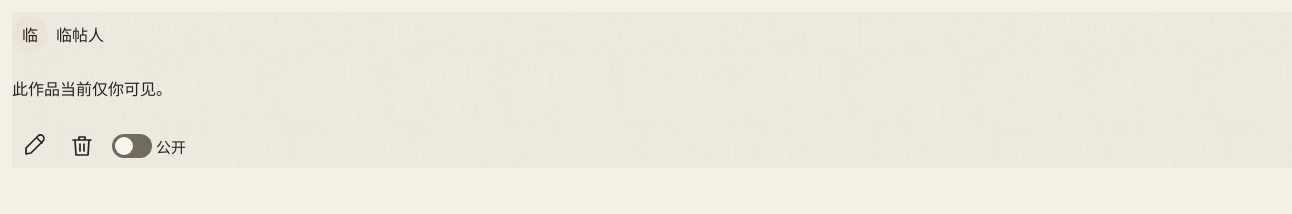
Work detail follows whether others can see the author's work › reads the work once more after a failed read-back, then says only that it cannot tell
The width and height of the screenshot is (1292, 214).
Click the switch labelled "公开".
click(149, 146)  # box [108,124,190,168]
Wait 12000 ms
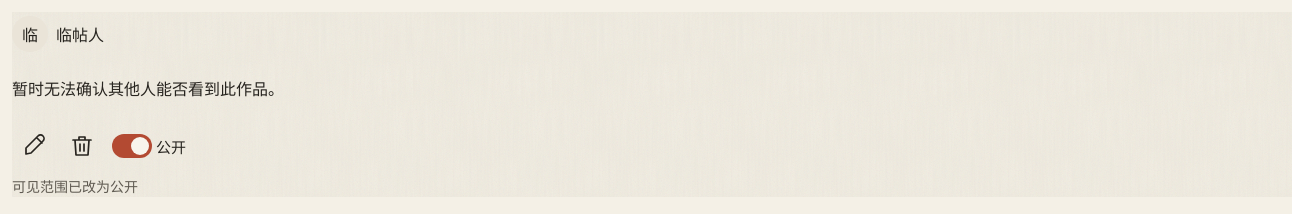
Result: the text "暂时无法确认其他人能否看到此作品。" is shown at [12,76,284,100]
